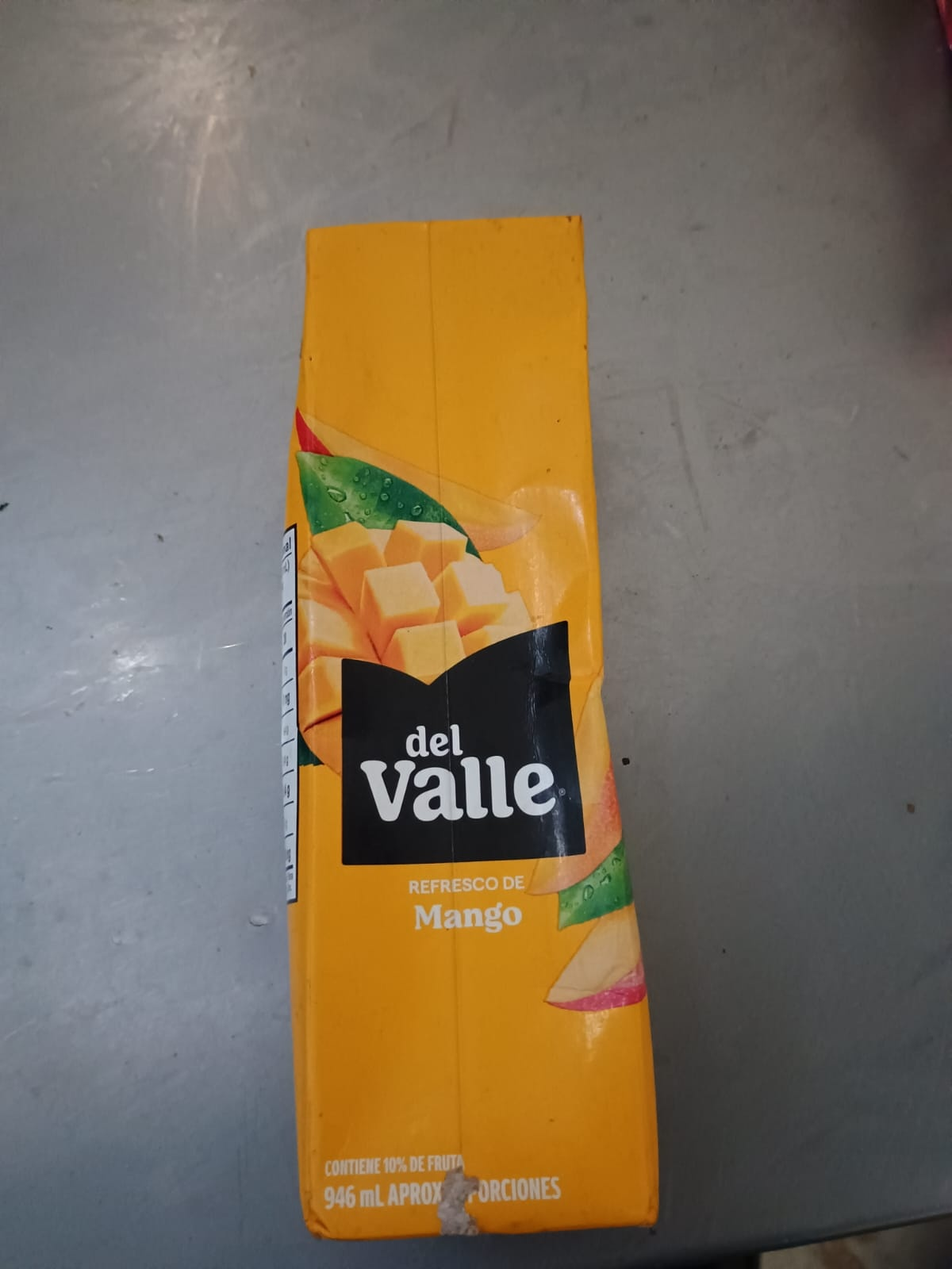Carton: (283, 214, 660, 1232)
